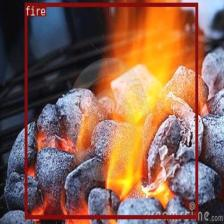fire: (25, 2, 197, 218)
